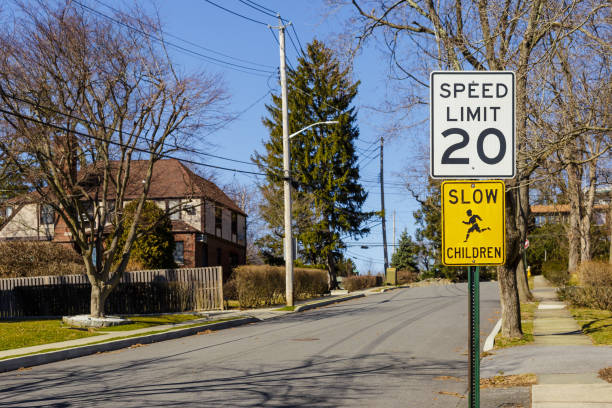SpeedLimitSign: (428, 69, 517, 179)
